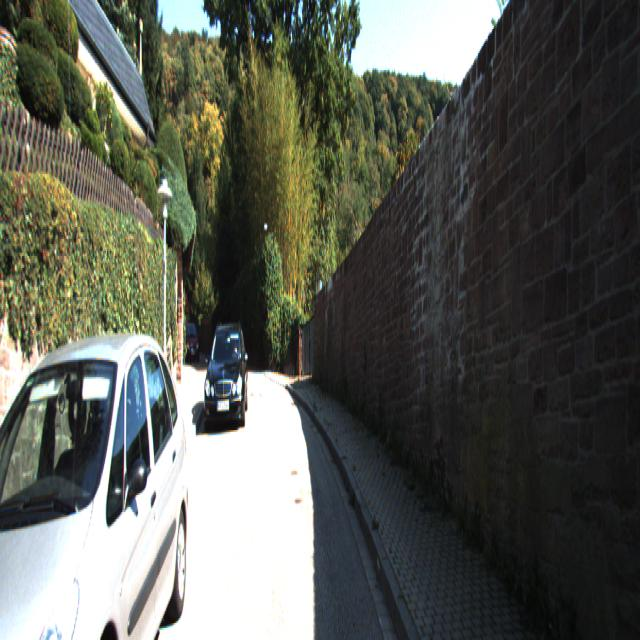Car: (0, 297, 190, 638), (204, 320, 248, 436), (183, 318, 200, 363)
